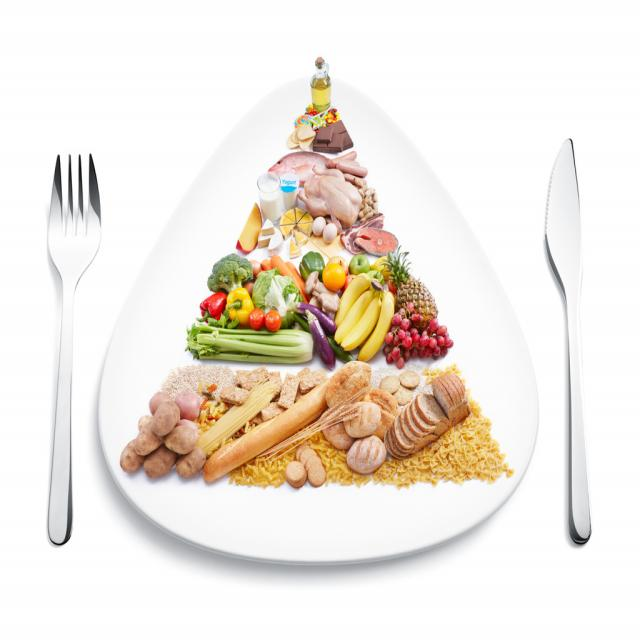non-organic waste: (94, 73, 539, 584)
